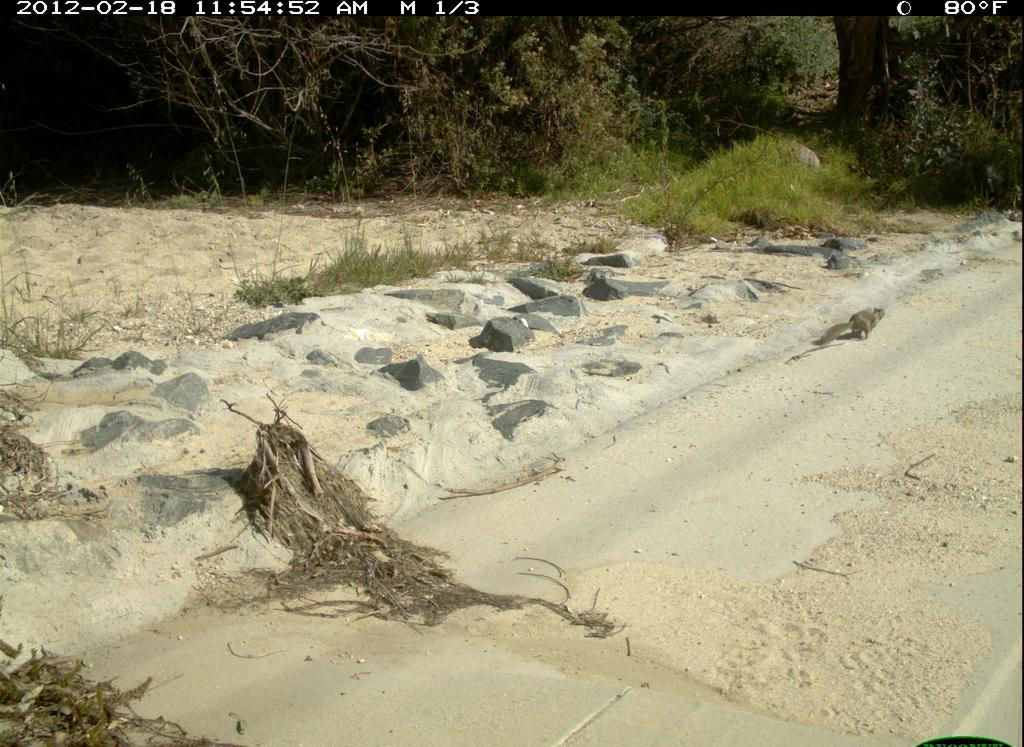squirrel: (811, 301, 893, 351)
